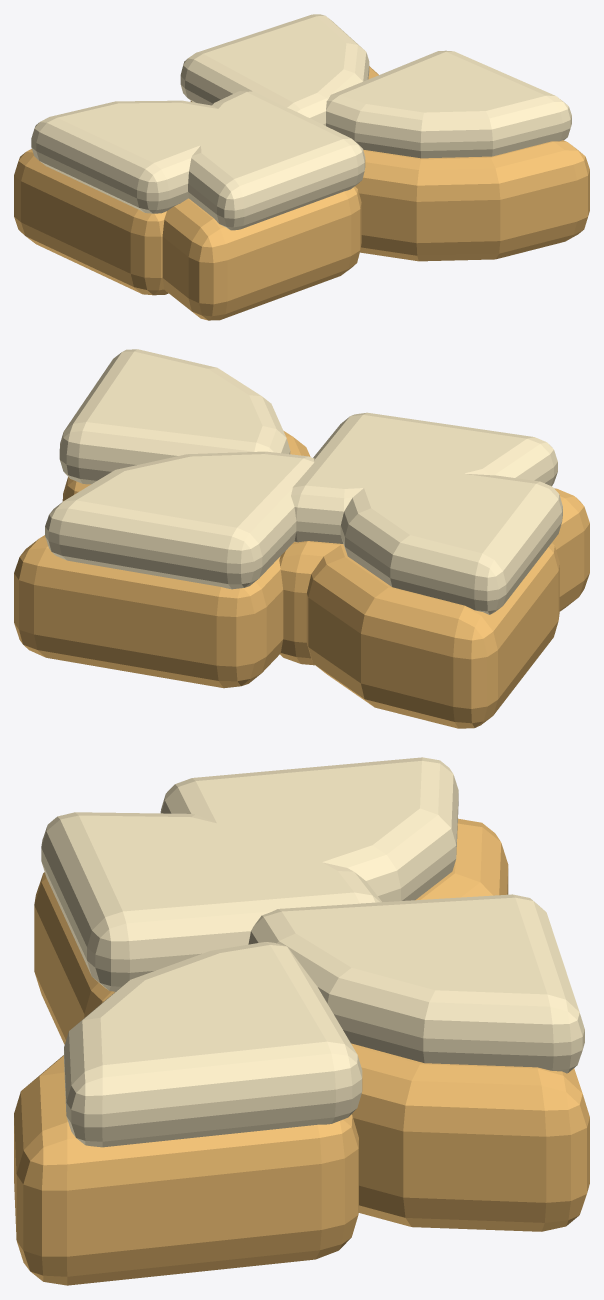
File: OnionChopped.fbx
3 renders of one model, top to bottom at view 1: azimuth 30°, elevation 25°; view 2: azimuth 150°, elevation 25°; view 3: azimuth 270°, elevation 25°, orthographic. The views are drawn at different scales.
Parts seen in each view (by area): view 1: MAT_OnionFlesh Geometry, MAT_OnionSkin Geometry.001; view 2: MAT_OnionFlesh Geometry, MAT_OnionSkin Geometry.001; view 3: MAT_OnionFlesh Geometry, MAT_OnionSkin Geometry.001.
Part boxes in pixels (x1,y1,x2,y2): MAT_OnionFlesh Geometry: (31,14,571,230); MAT_OnionSkin Geometry.001: (14,66,589,320); MAT_OnionFlesh Geometry: (45,349,562,614); MAT_OnionSkin Geometry.001: (14,430,589,728); MAT_OnionFlesh Geometry: (41,757,584,1147); MAT_OnionSkin Geometry.001: (14,818,589,1285).
Size of the model in its own units: 55.67 by 16.5 by 39.48.
